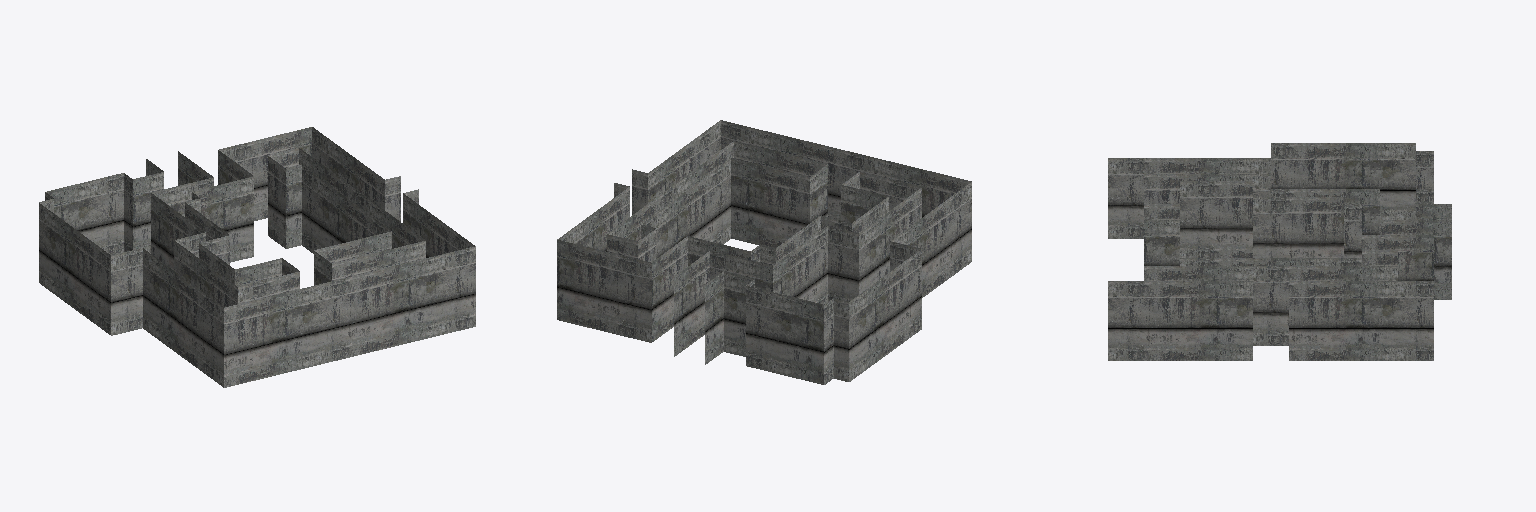
3 renders of one model, left to right at view 1: azimuth 30°, elevation 25°; view 2: azimuth 150°, elevation 25°; view 3: azimuth 270°, elevation 25°, orthographic.
Visible parts, largest first — view 1: Room; view 2: Room; view 3: Room.
Part boxes in pixels (x1,y1,x2,y2): Room: (39, 127, 475, 387); Room: (557, 120, 971, 384); Room: (1108, 143, 1451, 360).
Size of the model in its own units: 9.5 by 2.45 by 9.5.
1 materials, 1 textured.